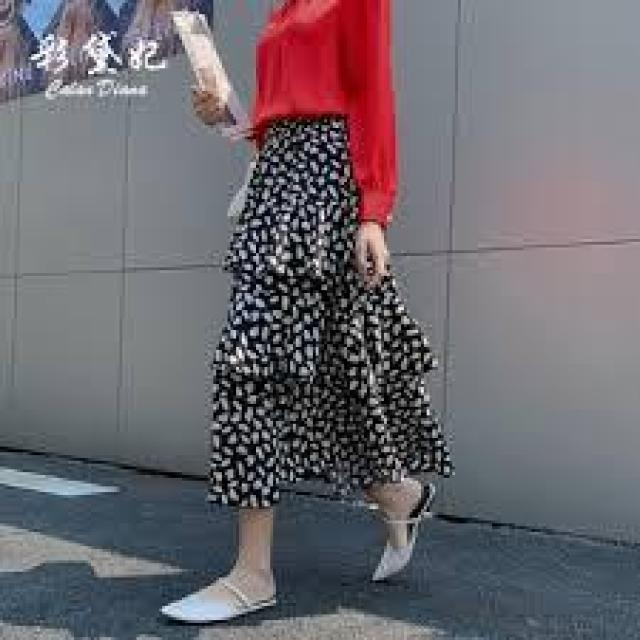shirt: (224, 2, 443, 226)
skirt: (180, 105, 460, 509)
